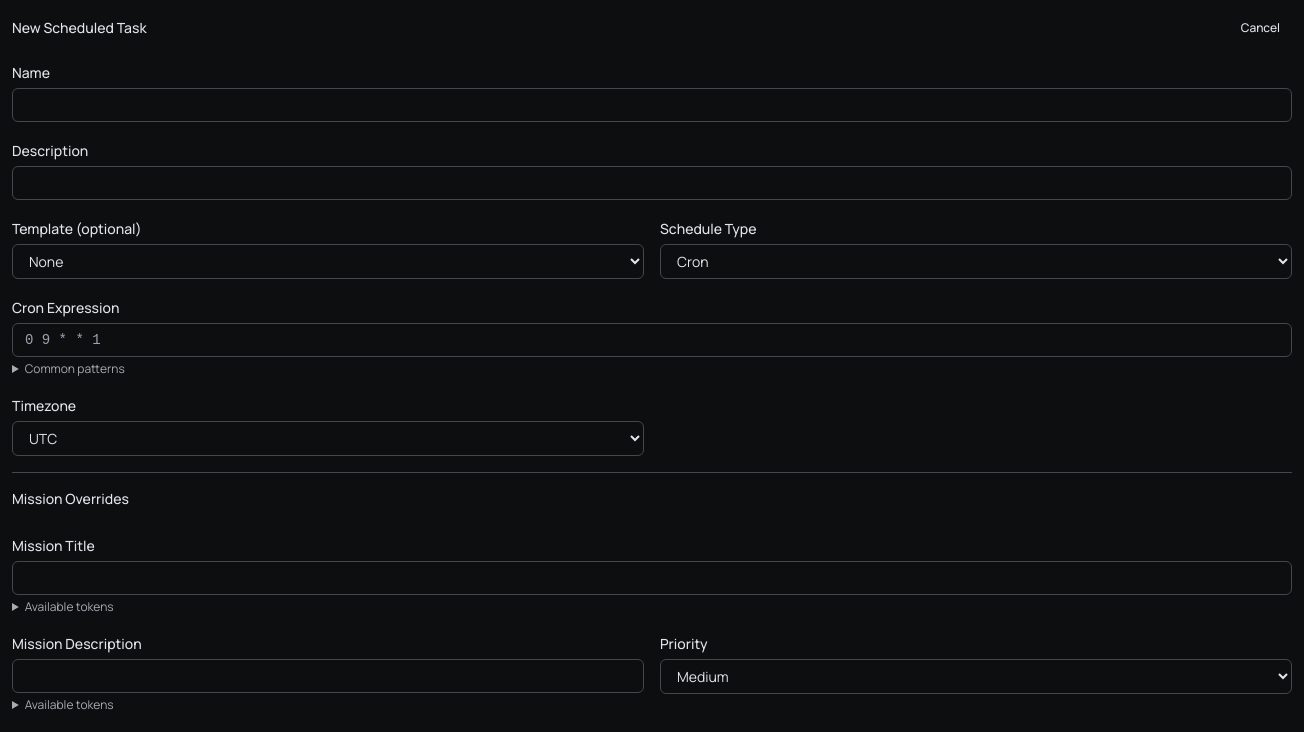
Test: ScheduledTaskForm › template selection populates feature fields
Select "Sprint Template" in the dropdown with test id "st-template": (328, 262) [12,244,644,279]
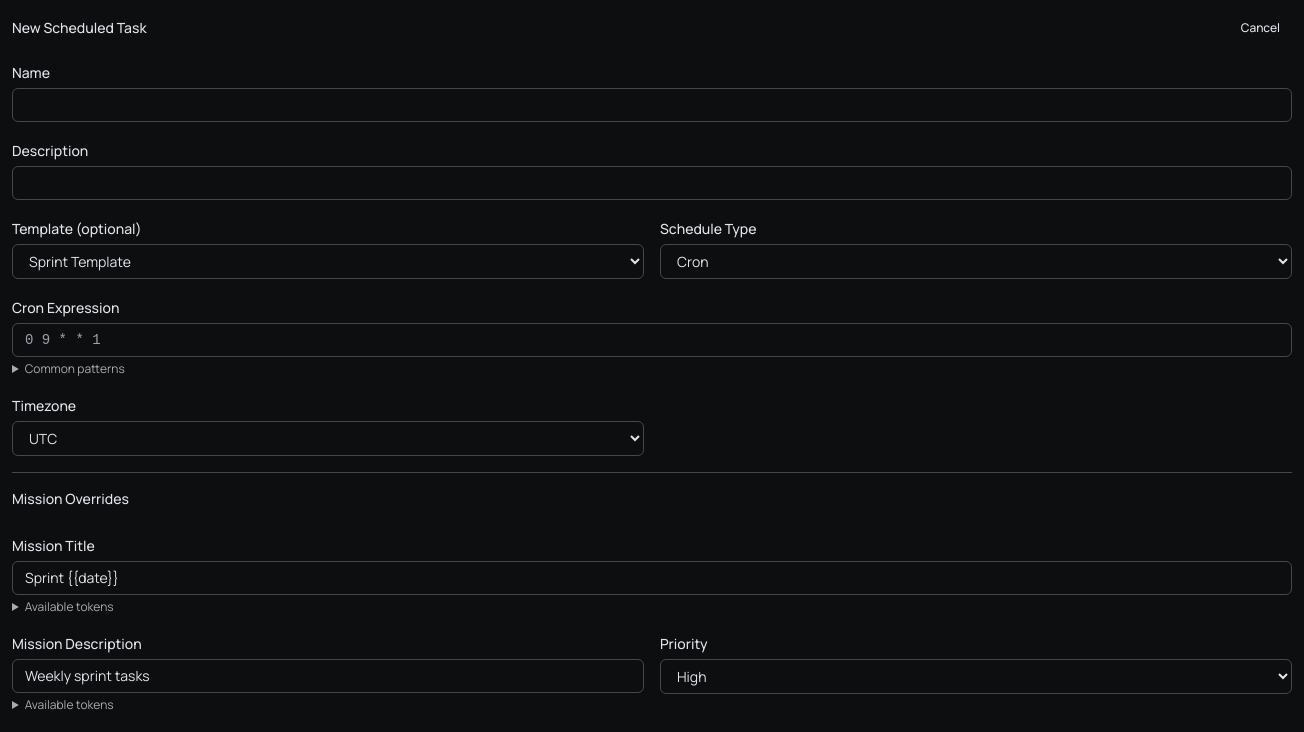
Expected: the field with test id "st-mission-title" holds "Sprint {{date}}", [12,561,1292,595]
